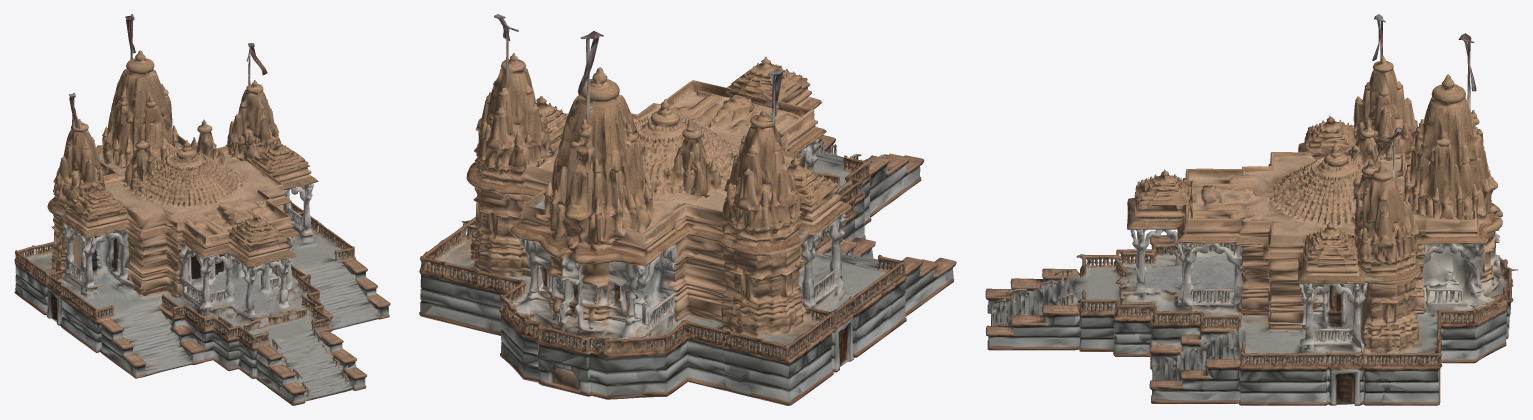
File: pavagadh-proxy.glb
3 renders of one model, left to right at view 1: azimuth 30°, elevation 25°; view 2: azimuth 150°, elevation 25°; view 3: azimuth 270°, elevation 25°, orthographic. The views are drawn at different scales.
Parts seen in each view (by area): view 1: mesh_node; view 2: mesh_node; view 3: mesh_node.
Part boxes in pixels (x1,y1,x2,y2): mesh_node: [14, 14, 390, 405]; mesh_node: [419, 14, 956, 405]; mesh_node: [985, 14, 1518, 405].
Bounding box in the file's own units: 1.35 × 1.16 × 1.93.
Materials: 1 (1 with a texture image).
